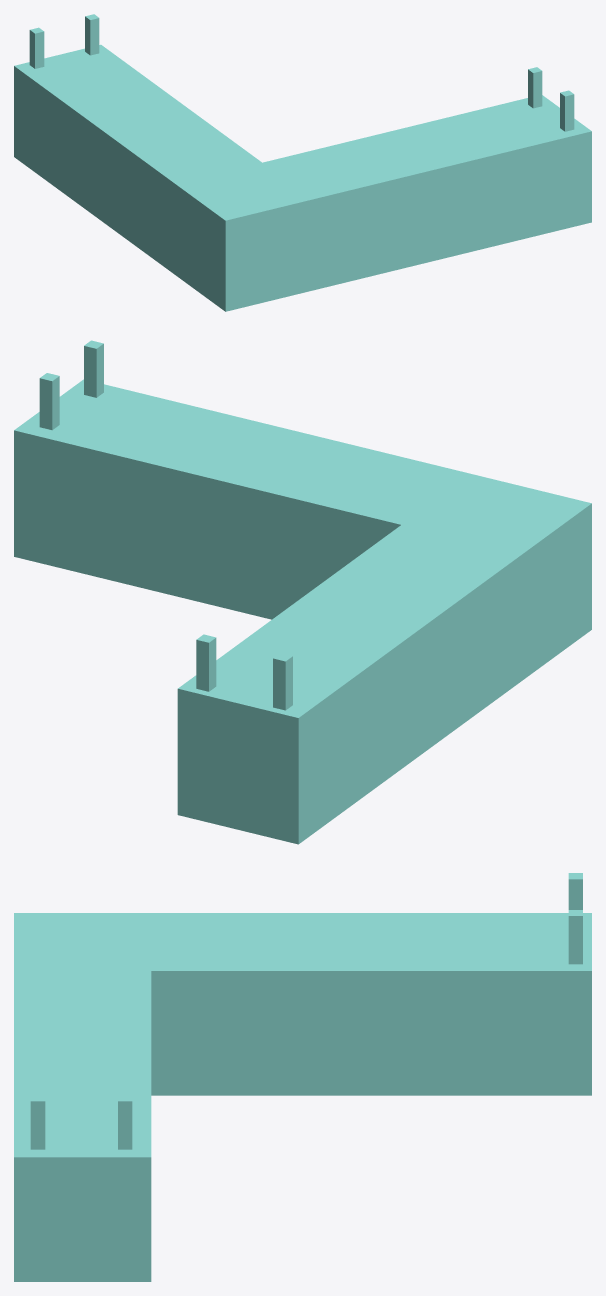
File: VintilCorner_Collision.fbx
3 renders of one model, top to bottom at view 1: azimuth 30°, elevation 25°; view 2: azimuth 150°, elevation 25°; view 3: azimuth 270°, elevation 25°, orthographic. The views are drawn at different scales.
Visible parts, largest first — view 1: VintilCorner_Collision; view 2: VintilCorner_Collision; view 3: VintilCorner_Collision.
Boxes of the visible parts, box(x1,y1,x2,y2) form: VintilCorner_Collision: box(14, 14, 591, 311); VintilCorner_Collision: box(14, 340, 591, 844); VintilCorner_Collision: box(14, 873, 591, 1281).
Bounding box in the file's own units: 1.76 × 0.5804 × 1.76.
